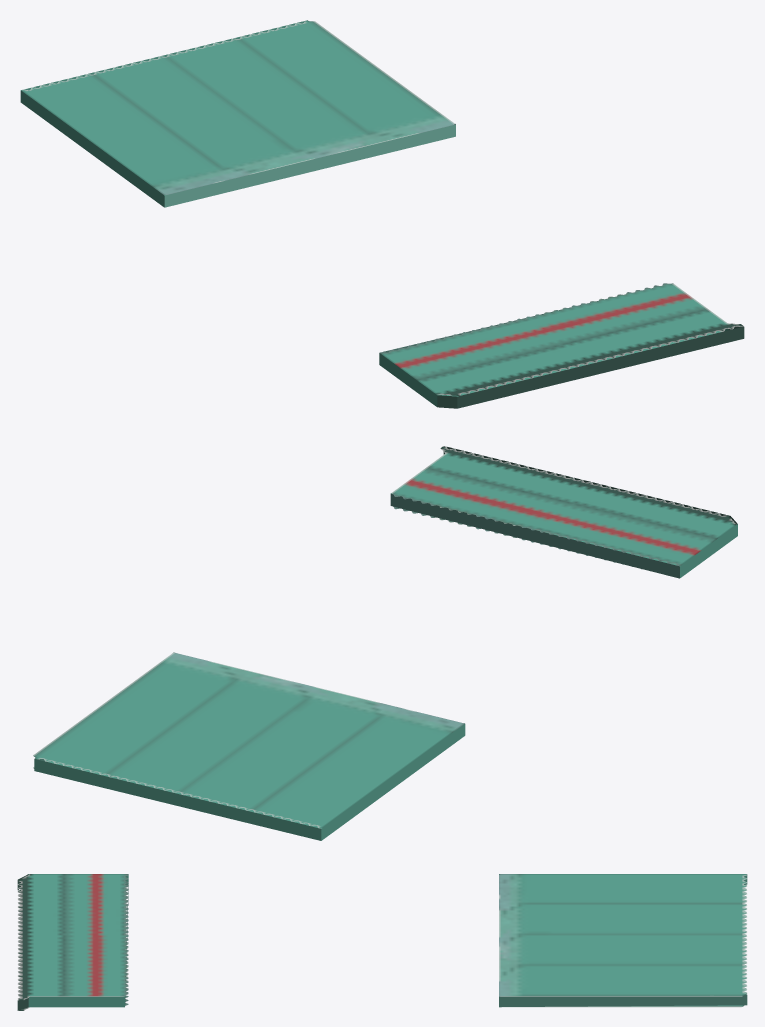
File: pz_native_location_restaurant_diner_01_20_frame.obj
3 renders of one model, top to bottom at view 1: azimuth 30°, elevation 25°; view 2: azimuth 150°, elevation 25°; view 3: azimuth 270°, elevation 25°, orthographic. The views are drawn at different scales.
Visible parts, largest first — view 1: pz_native_location_restaurant_diner_01_20_frame; view 2: pz_native_location_restaurant_diner_01_20_frame; view 3: pz_native_location_restaurant_diner_01_20_frame.
Part boxes in pixels (box(x1,y1,x2,y2)): pz_native_location_restaurant_diner_01_20_frame: box(20, 20, 744, 408); pz_native_location_restaurant_diner_01_20_frame: box(33, 446, 737, 840); pz_native_location_restaurant_diner_01_20_frame: box(17, 874, 747, 1010).
Bounding box in the file's own units: 1.06 × 0.04 × 2.54.
1 material, 1 textured.
